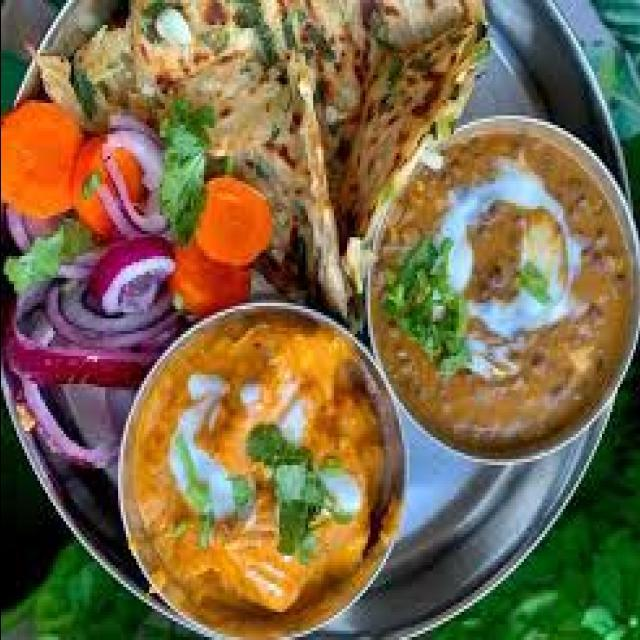roti: (208, 0, 476, 265)
